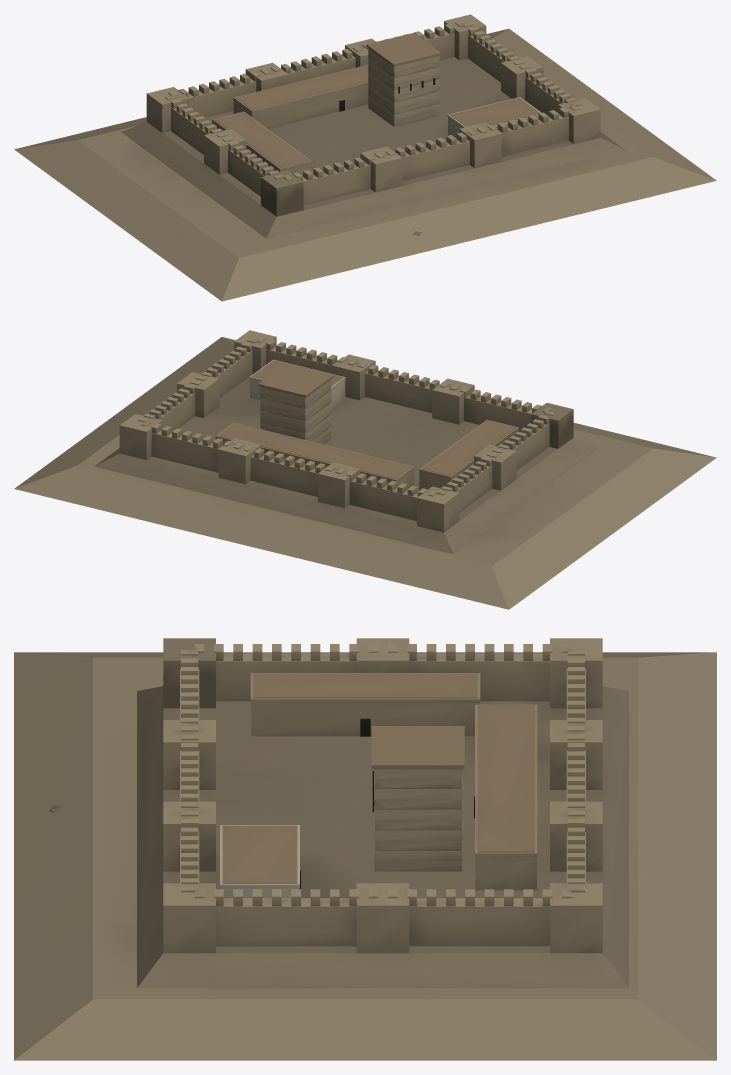
Rendered from hathial.glb.
3 views of the same model, one above another, from view 1: azimuth 30°, elevation 25°; view 2: azimuth 150°, elevation 25°; view 3: azimuth 270°, elevation 25° (orthographic). The views are drawn at different scales.
Visible parts, largest first — view 1: p0_ridge, p1_walls, p2_citadel; view 2: p0_ridge, p1_walls, p2_citadel; view 3: p0_ridge, p1_walls, p2_citadel.
Part boxes in pixels (x1,y1,x2,y2): p0_ridge: (14,28,716,301); p1_walls: (146,14,600,216); p2_citadel: (212,33,541,175); p0_ridge: (14,337,716,609); p1_walls: (119,330,573,532); p2_citadel: (215,359,518,490); p0_ridge: (14,652,716,1060); p1_walls: (163,638,602,953); p2_citadel: (220,673,537,898).
Bounding box in the file's own units: 110 × 19.5 × 80.
